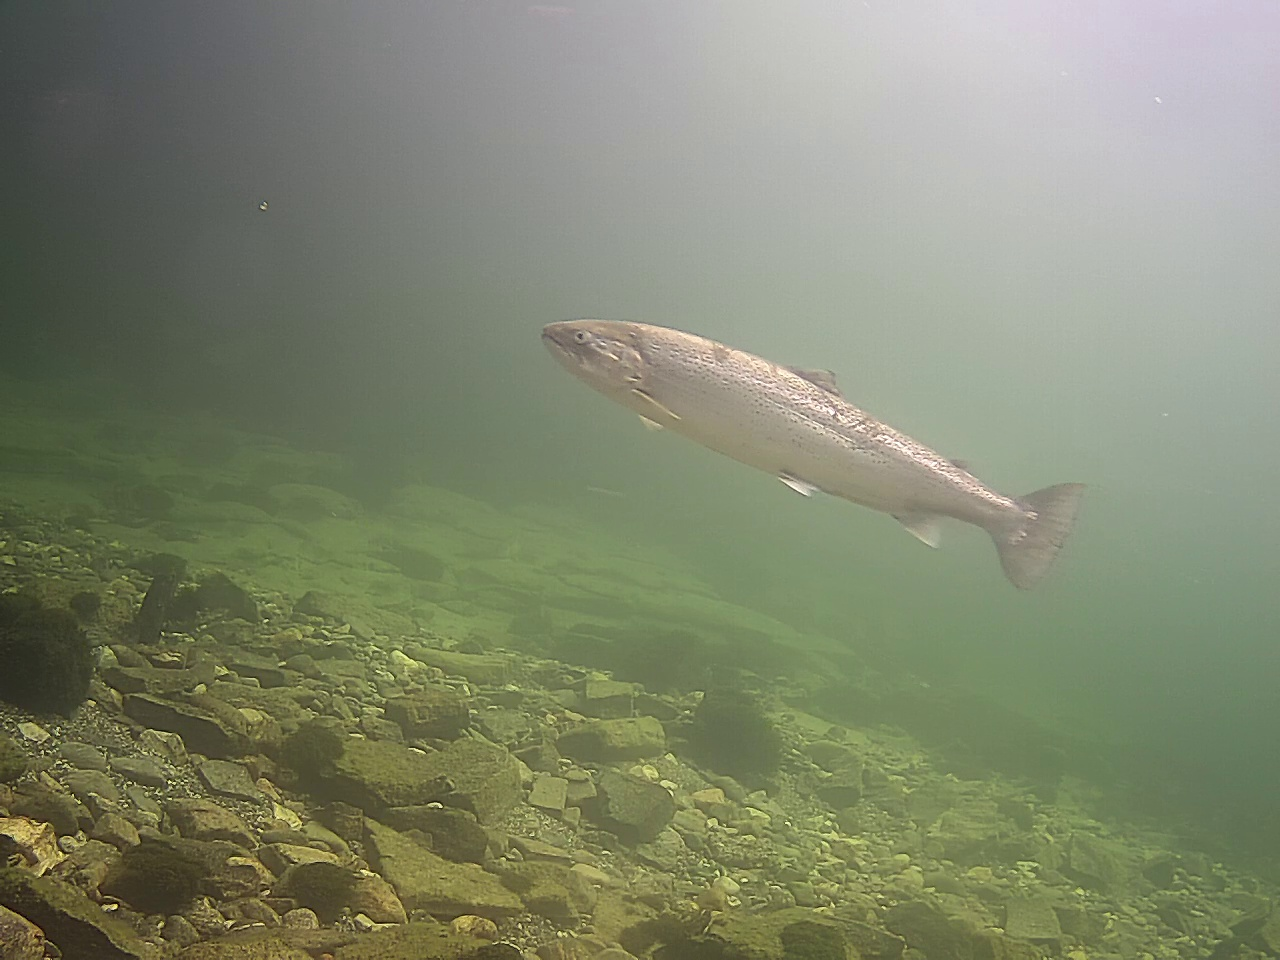salmon: (539, 316, 1089, 594)
